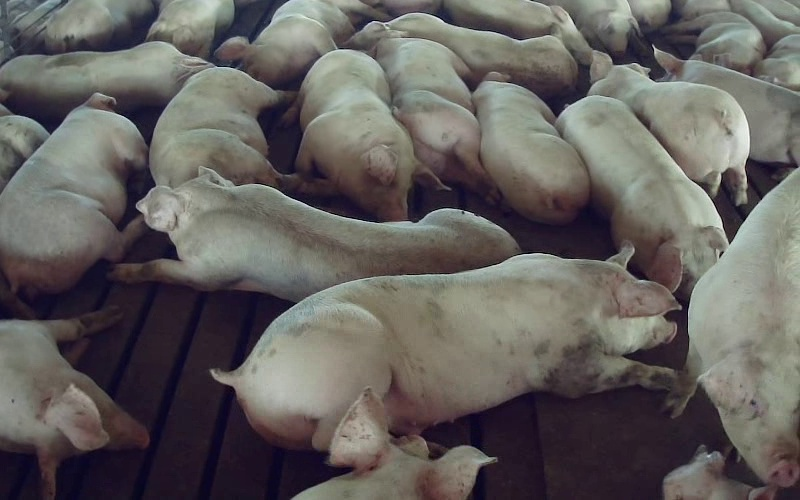pig: (109, 167, 519, 301), (666, 168, 799, 487), (555, 96, 727, 299), (0, 93, 146, 296), (0, 306, 148, 499), (282, 49, 439, 220), (588, 51, 749, 204), (293, 388, 495, 499), (374, 37, 499, 202), (348, 13, 577, 98), (149, 68, 296, 189), (472, 72, 589, 224), (654, 48, 799, 165), (0, 42, 212, 119), (215, 0, 385, 86), (443, 0, 591, 64), (662, 12, 765, 73), (45, 0, 154, 53), (146, 0, 234, 58)
